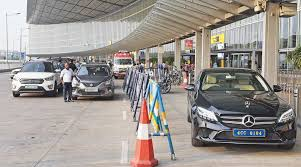car: (187, 69, 298, 150), (12, 59, 62, 97), (71, 62, 115, 100)
cone: (131, 98, 159, 166)
